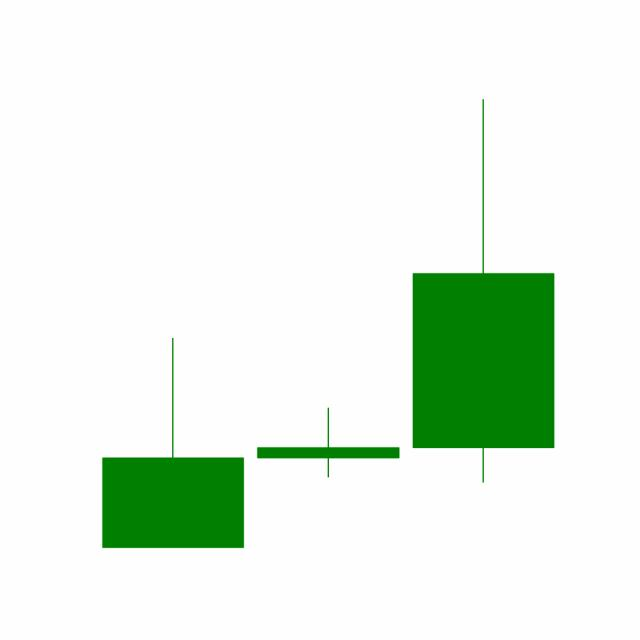Gravestone Doji: (249, 406, 406, 478)
